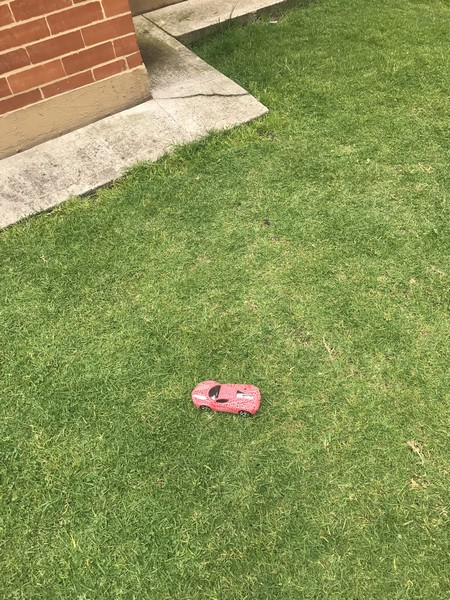RC: (192, 376, 262, 419)
